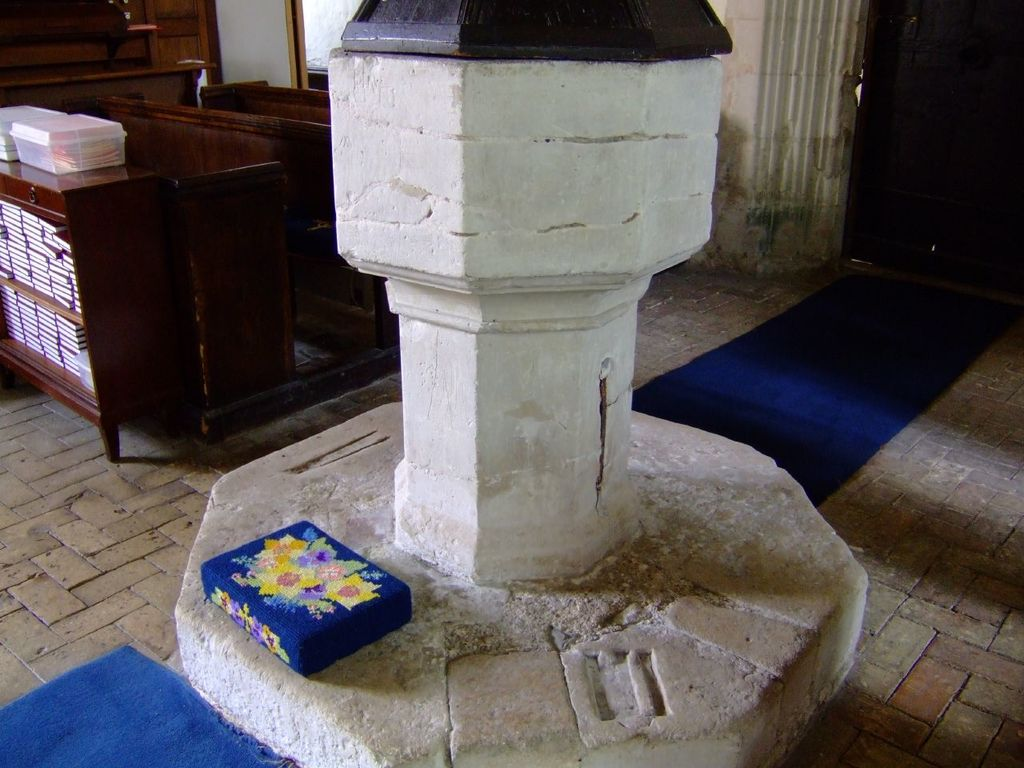Cabinetry: (0, 98, 310, 470), (198, 76, 428, 362), (0, 0, 222, 110)
